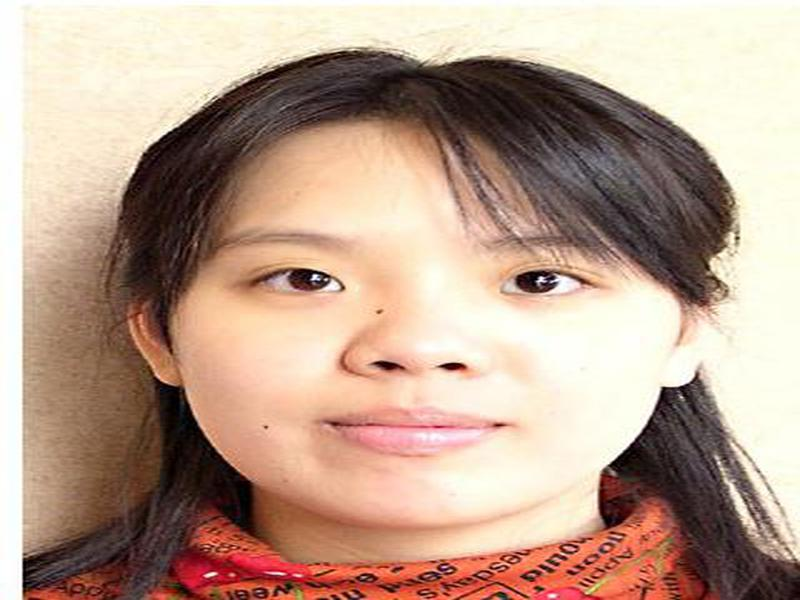without_mask: (191, 159, 644, 525)
